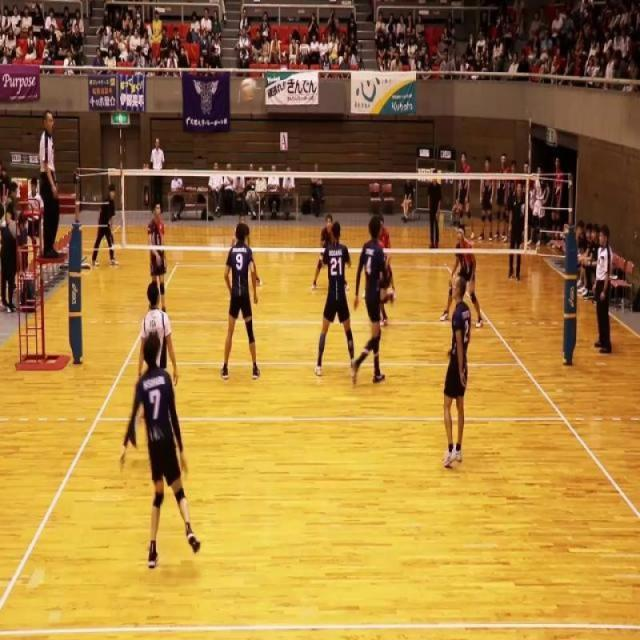volleyball: (240, 77, 256, 101)
